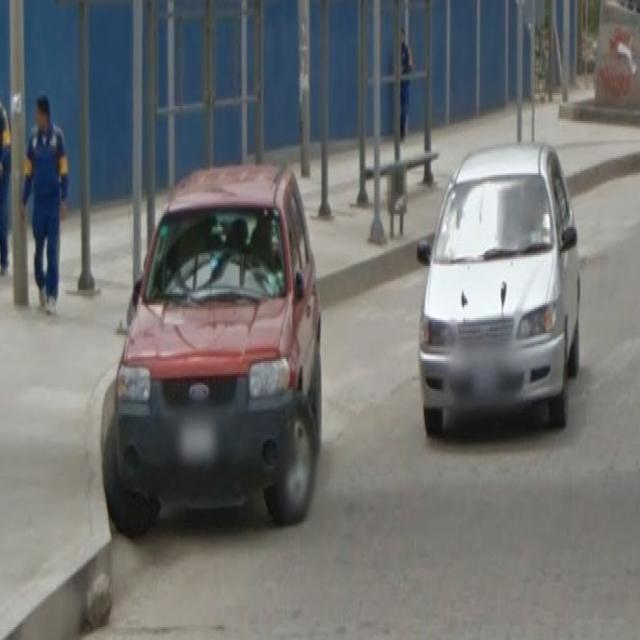car: (115, 164, 330, 538)
